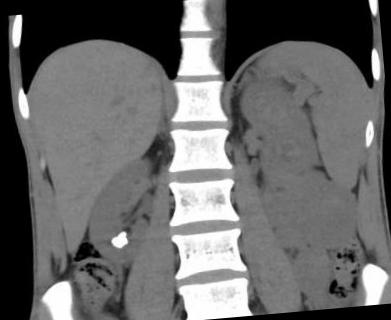Tas_Var: (105, 228, 134, 254)
